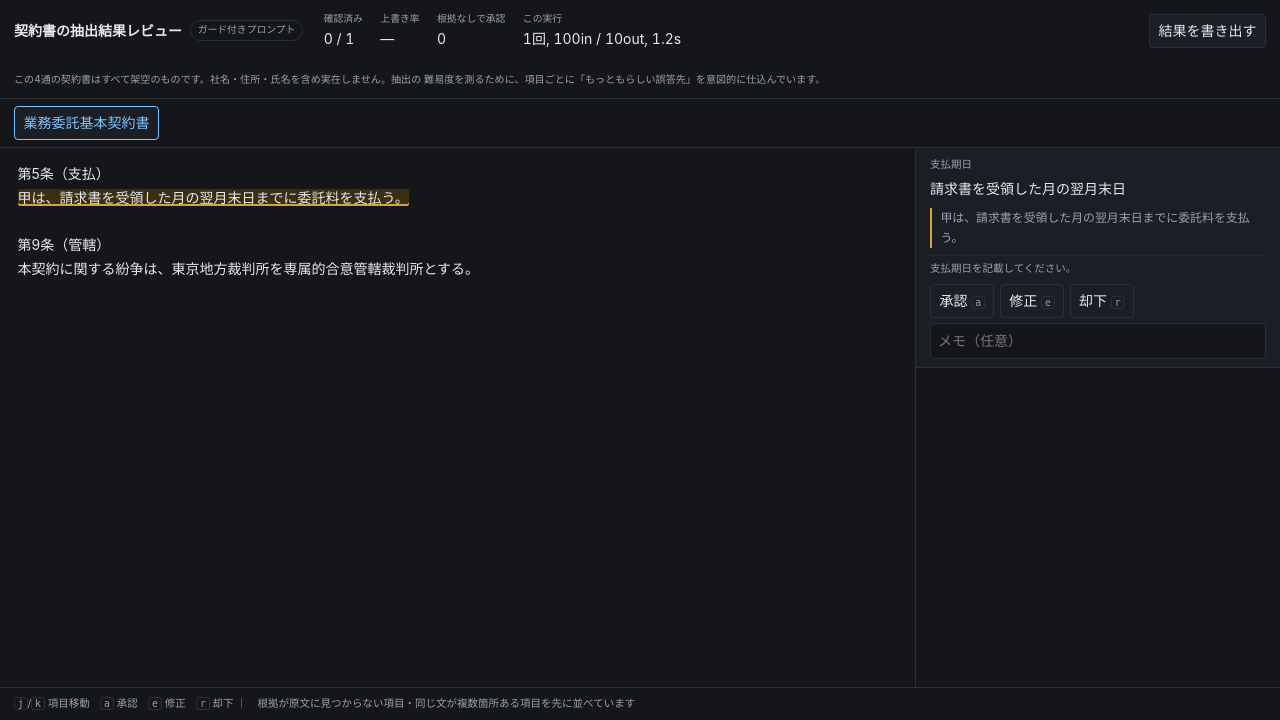
Test case: App › refuses a correction identical to the extracted value
The width and height of the screenshot is (1280, 720).
Click the button "修正 e": [1032, 301] box [1000,284,1064,318]
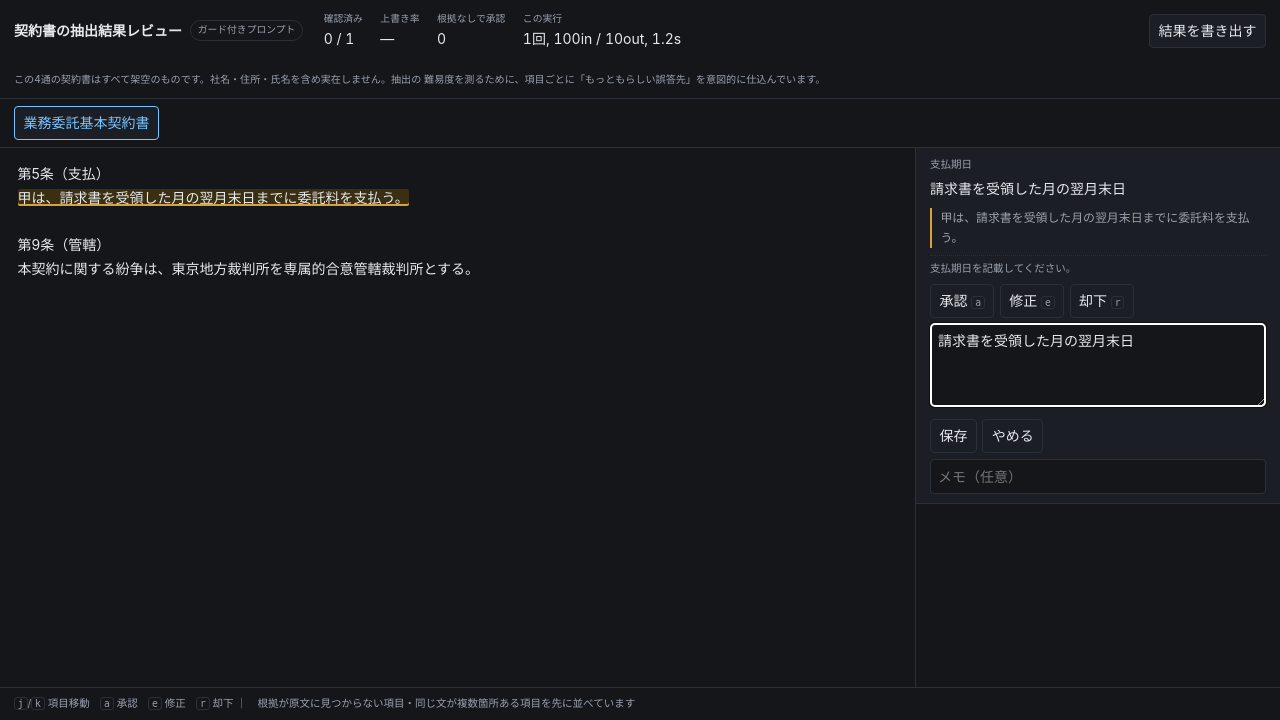
Click the button "保存": [953, 436] box [930,419,977,453]
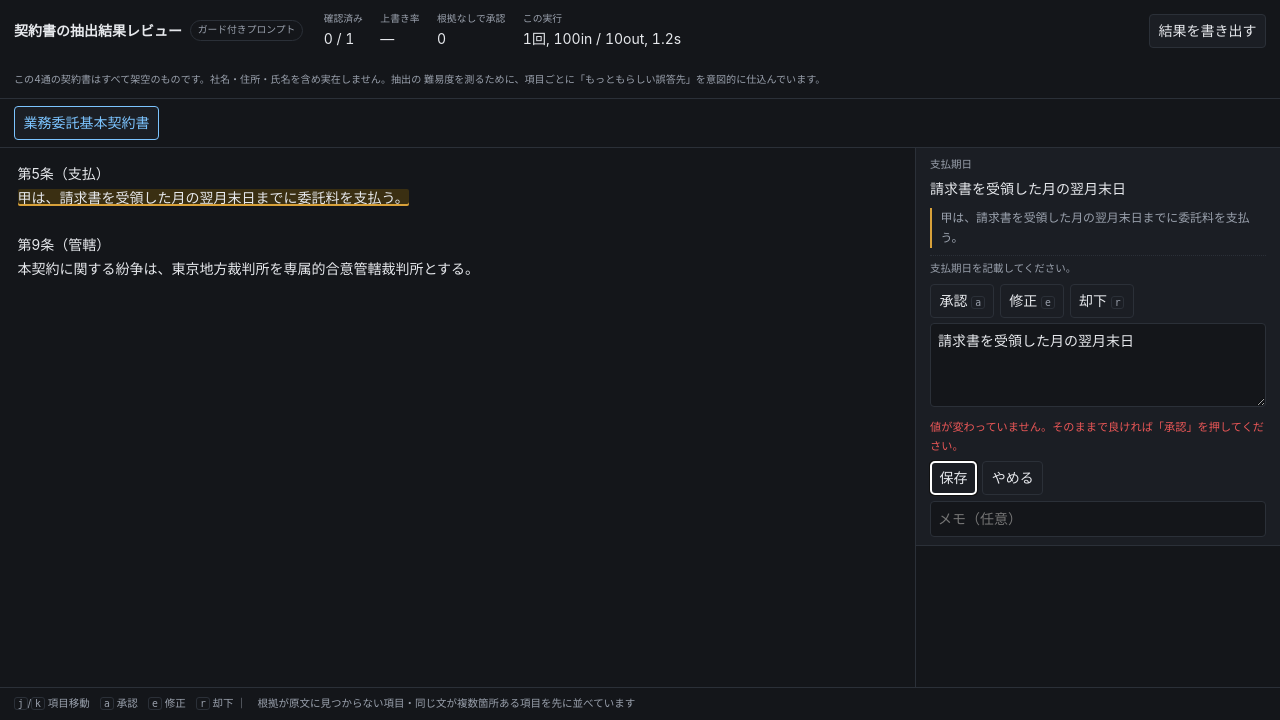
Result: the text "値が変わっていません。そのままで良ければ「承認」を押してください。" is shown at [930,418,1266,456]
